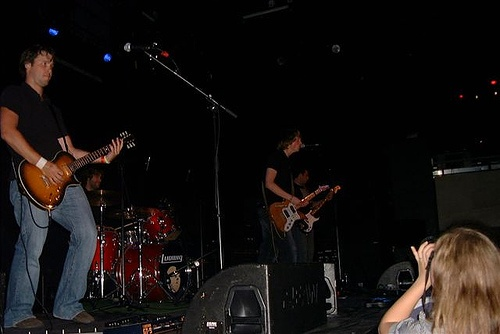head: (413, 227, 500, 334), (20, 47, 56, 86), (275, 127, 307, 160)
person: (1, 41, 129, 329), (374, 223, 499, 333), (258, 130, 307, 262), (158, 265, 188, 302)
